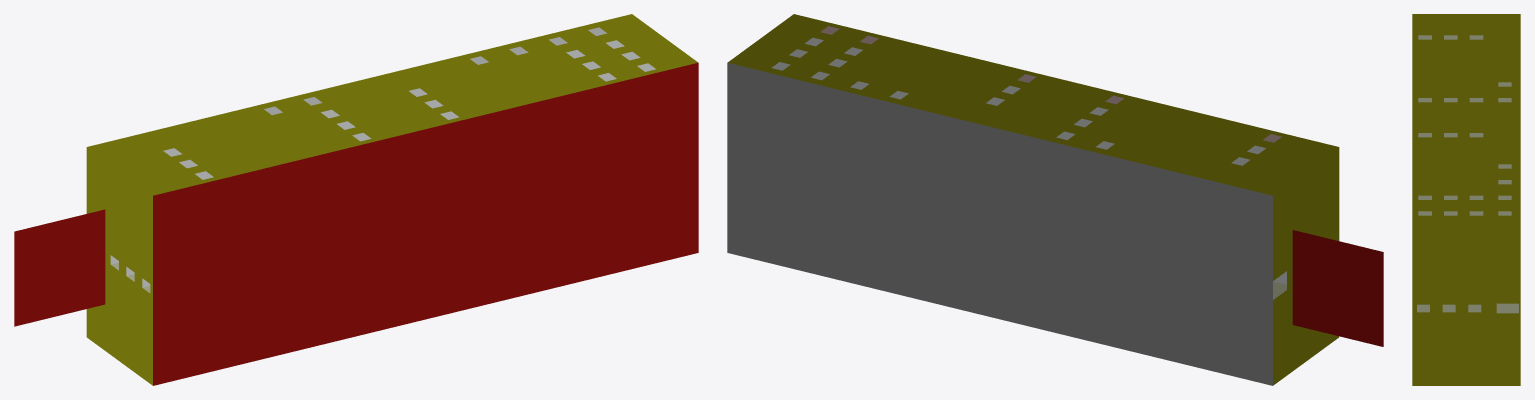
Rendered from idf.obj.
The picture shows the model from 3 angles, left to right: view 1: azimuth 30°, elevation 25°; view 2: azimuth 150°, elevation 25°; view 3: azimuth 270°, elevation 25°; orthographic projection. The views are drawn at different scales.
Bounding box in the file's own units: 64.06 × 18.29 × 11.58.
